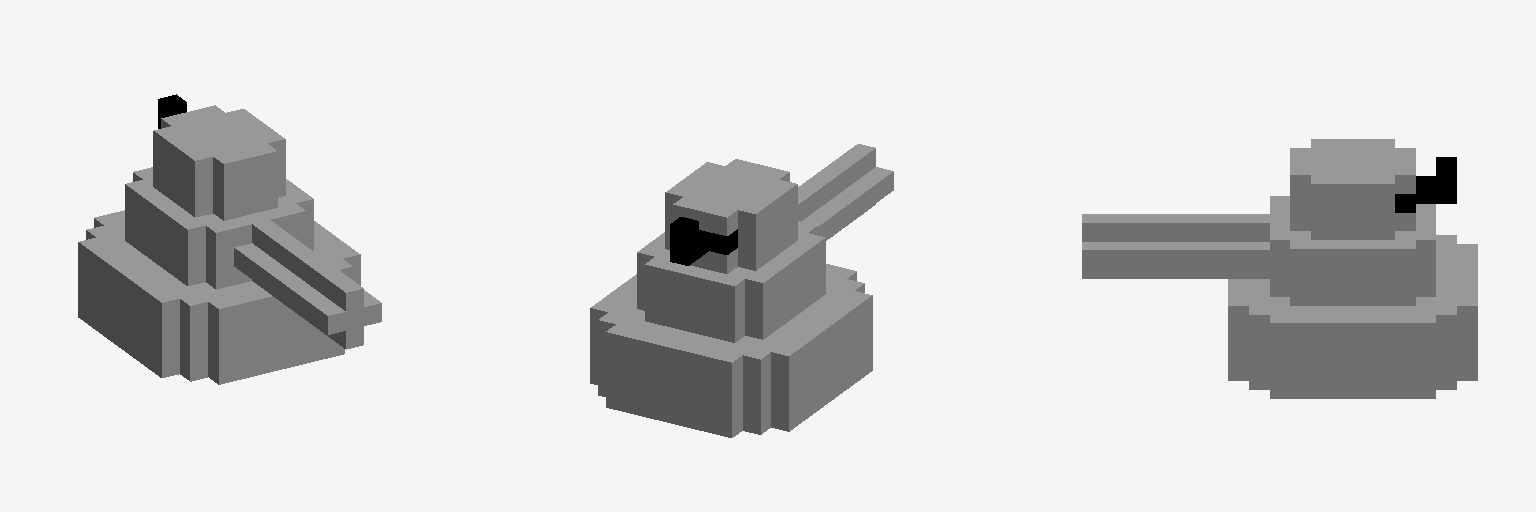
3 renders of one model, left to right at view 1: azimuth 30°, elevation 25°; view 2: azimuth 150°, elevation 25°; view 3: azimuth 270°, elevation 25°, orthographic.
Parts seen in each view (by area): view 1: Model; view 2: Model; view 3: Model.
Boxes of the visible parts, <box> form: Model: <box>78,94,381,384</box>; Model: <box>590,144,893,437</box>; Model: <box>1082,139,1477,398</box>.
Bounding box in the file's own units: 18.53 × 16.84 × 32.
Materials: 1 (1 with a texture image).